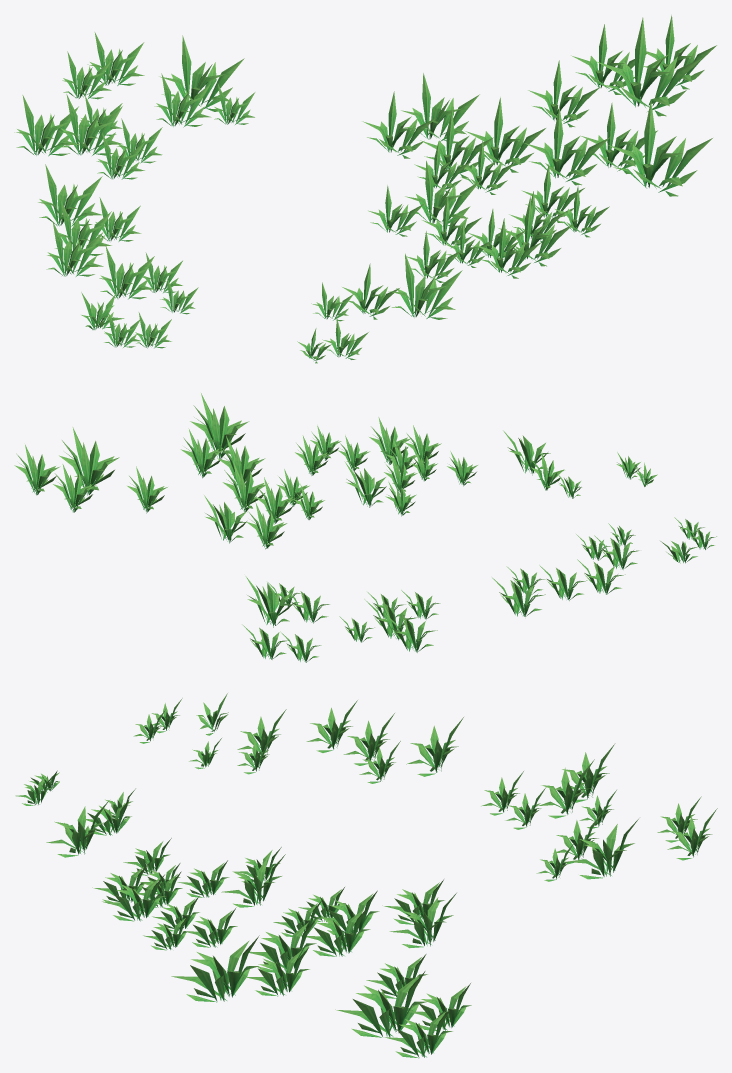
Rendered from area_10_2.fbx.
3 views of the same model, one above another, from view 1: azimuth 30°, elevation 25°; view 2: azimuth 150°, elevation 25°; view 3: azimuth 270°, elevation 25° (orthographic). The views are drawn at different scales.
Parts seen in each view (by area): view 1: area_10_2; view 2: area_10_2; view 3: area_10_2.
Boxes of the visible parts, box(x1,y1,x2,y2) form: area_10_2: box(14, 15, 716, 363); area_10_2: box(14, 393, 716, 662); area_10_2: box(15, 693, 717, 1058).
Bounding box in the file's own units: 17.25 × 1.69 × 14.74.
